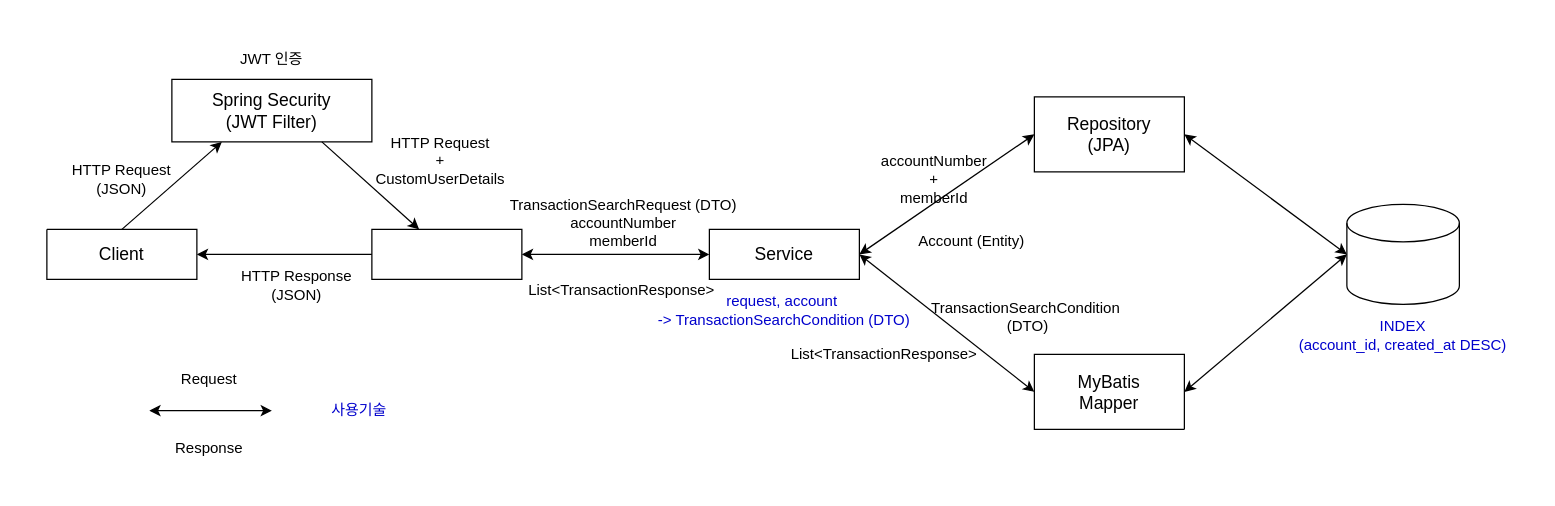
Image size: 1555x506. Some labels were removed from this diagram. Each missing label, with the centre of its shape:
Controller: the point at 446,253
DB: the point at 1402,253
